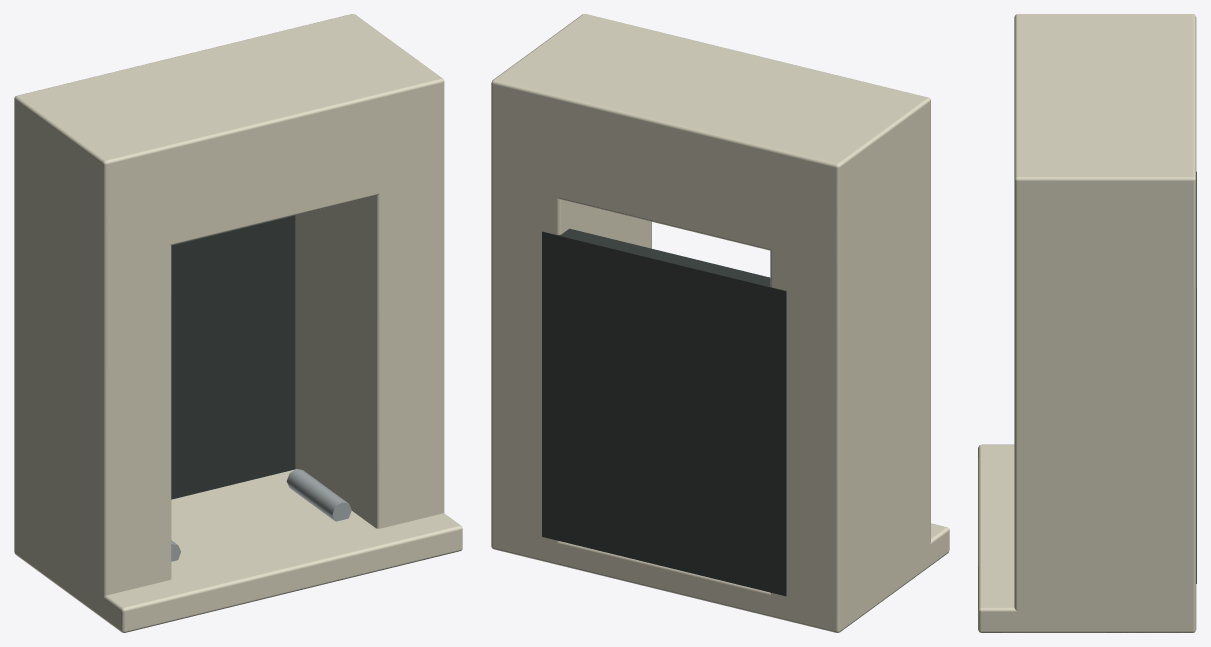
Rendered from modular-survival-base-builder-masonry-fireplace-085260af__24245.glb.
3 views of the same model, side by side, from view 1: azimuth 30°, elevation 25°; view 2: azimuth 150°, elevation 25°; view 3: azimuth 270°, elevation 25° (orthographic). The views are drawn at different scales.
Visible parts, largest first — view 1: masonry-fireplace; view 2: masonry-fireplace; view 3: masonry-fireplace.
Boxes of the visible parts, box(x1,y1,x2,y2) form: masonry-fireplace: box(14, 14, 462, 632); masonry-fireplace: box(491, 14, 949, 632); masonry-fireplace: box(978, 14, 1196, 632).
Size of the model in its own units: 1.4 by 1.8 by 0.7824.
